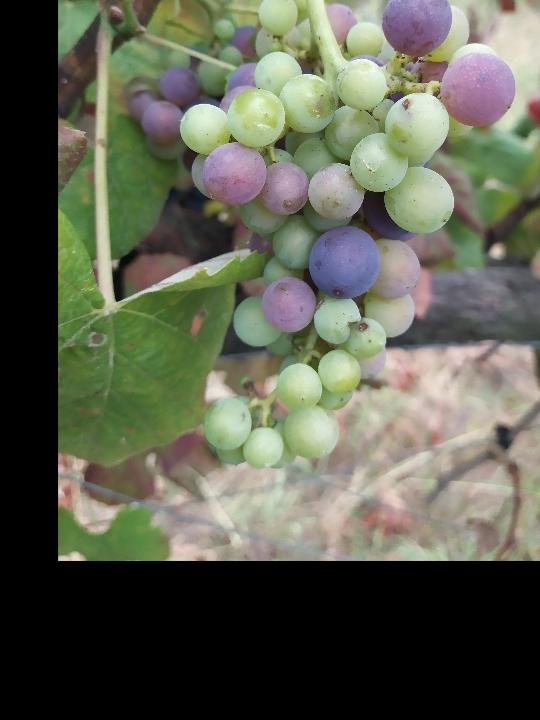grape: (176, 0, 519, 473)
